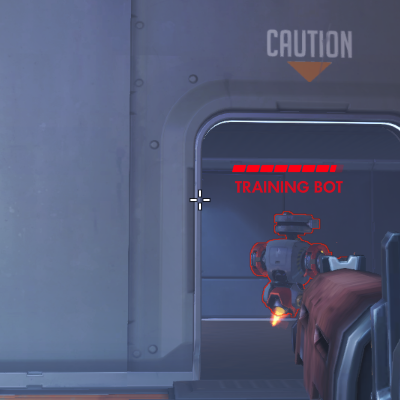hpbar: (231, 164, 344, 173)
